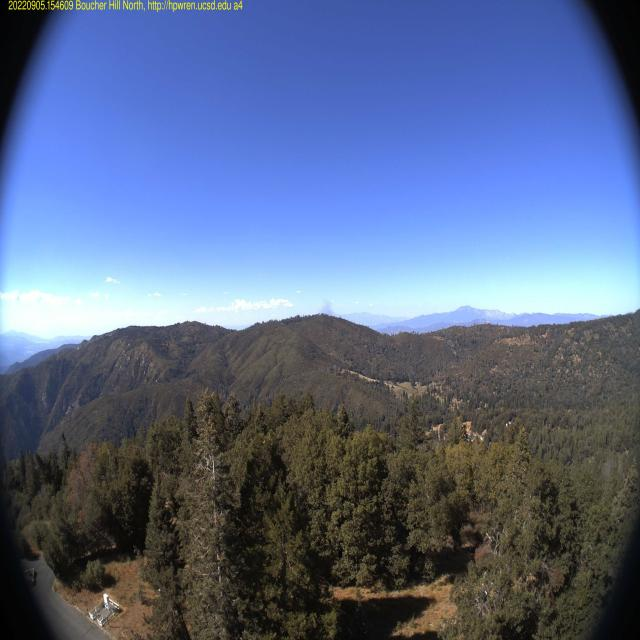smoke: (318, 294, 336, 320)
